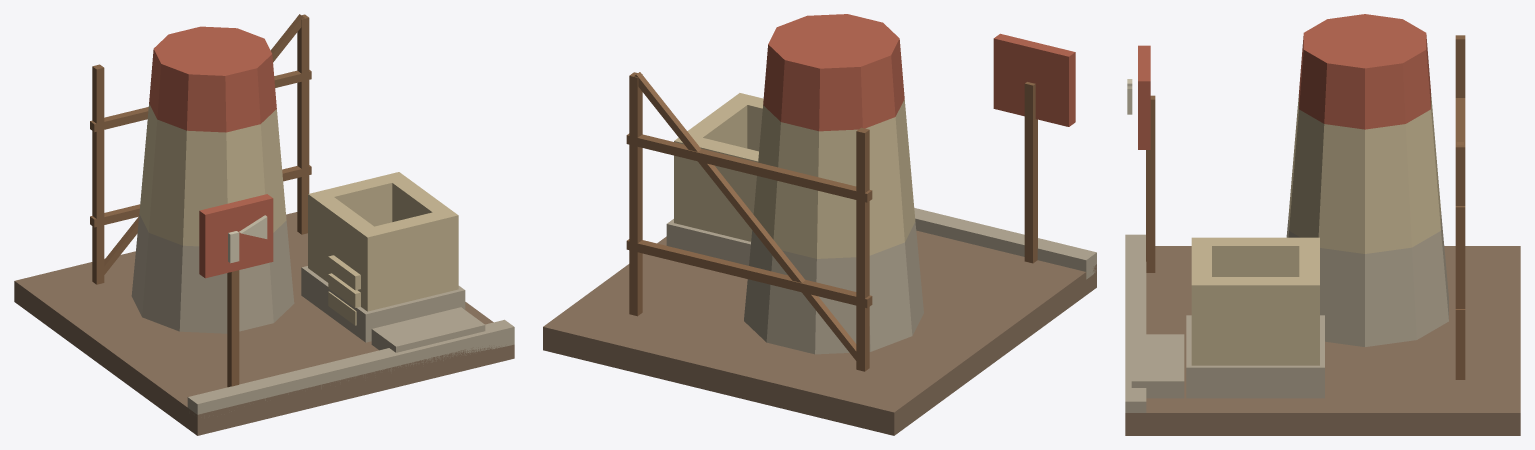
The model's file is lighthouse-half-built.glb.
3 renders of one model, left to right at view 1: azimuth 30°, elevation 25°; view 2: azimuth 150°, elevation 25°; view 3: azimuth 270°, elevation 25°, orthographic. The views are drawn at different scales.
Parts seen in each view (by area): view 1: lighthouse; view 2: lighthouse; view 3: lighthouse.
Part boxes in pixels (x1=…): lighthouse: x1=14, y1=14, x2=514, y2=435; lighthouse: x1=543, y1=14, x2=1096, y2=435; lighthouse: x1=1125, y1=14, x2=1520, y2=435.
Bounding box in the file's own units: 1.88 × 1.54 × 1.88.
